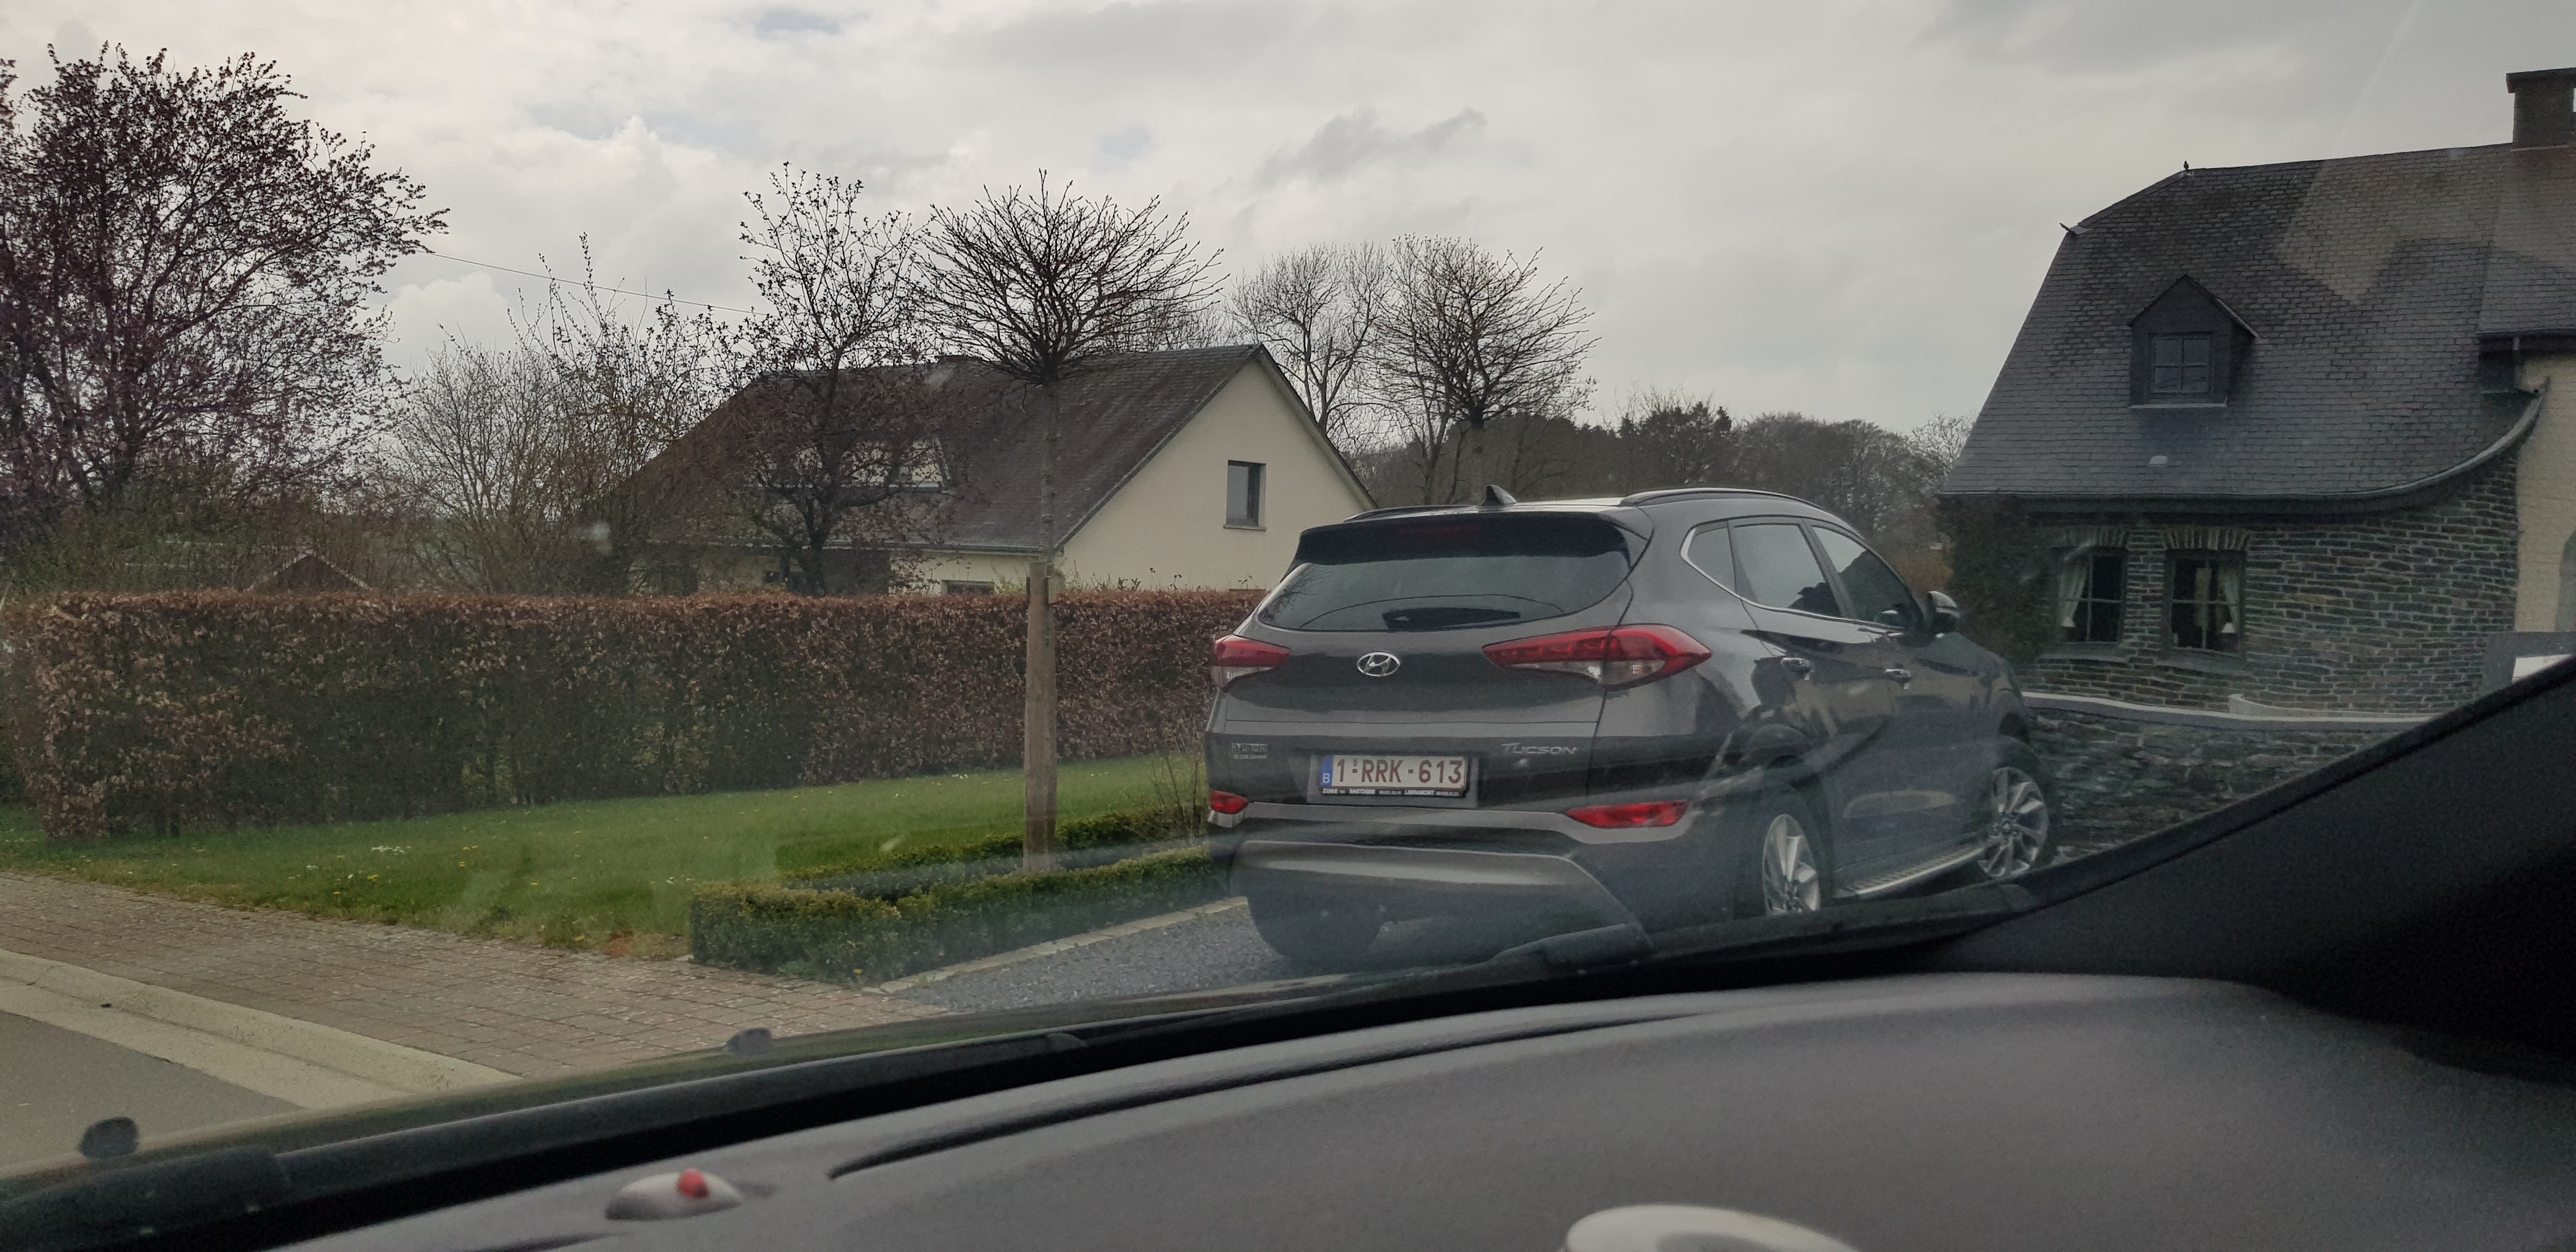licenceplate: (1318, 750, 1473, 795)
